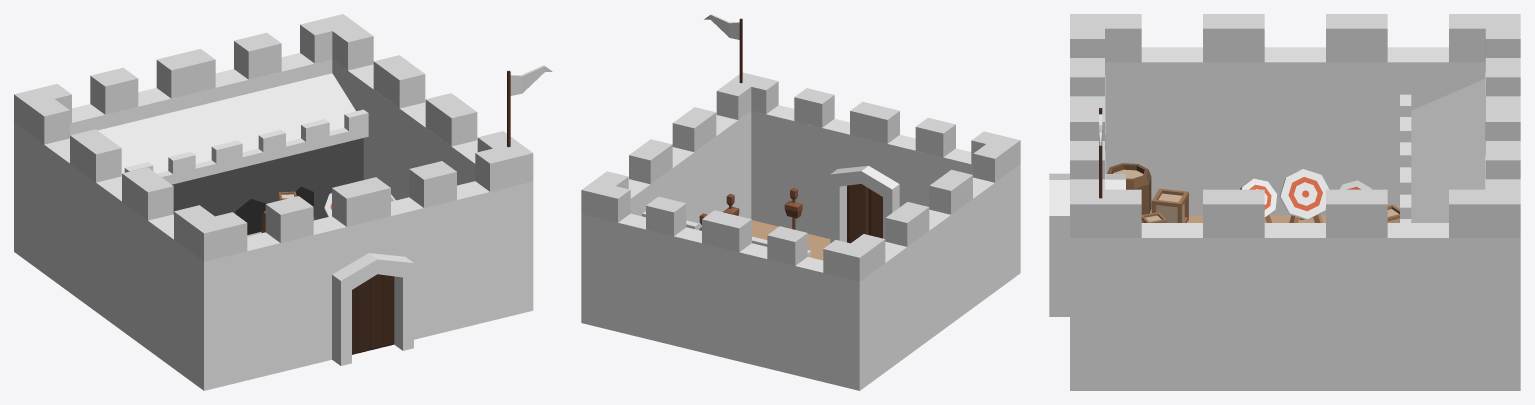
File: barracks.glb
3 views of the same model, side by side, from view 1: azimuth 30°, elevation 25°; view 2: azimuth 150°, elevation 25°; view 3: azimuth 270°, elevation 25° (orthographic). The views are drawn at different scales.
Visible parts, largest first — view 1: Barracks; view 2: Barracks; view 3: Barracks.
Boxes of the visible parts, x1,y1,x2,y2 form: Barracks: [14, 14, 552, 390]; Barracks: [581, 14, 1020, 390]; Barracks: [1049, 14, 1520, 390].
Bounding box in the file's own units: 8.79 × 5.4 × 8.37.
2 materials, 1 textured.
